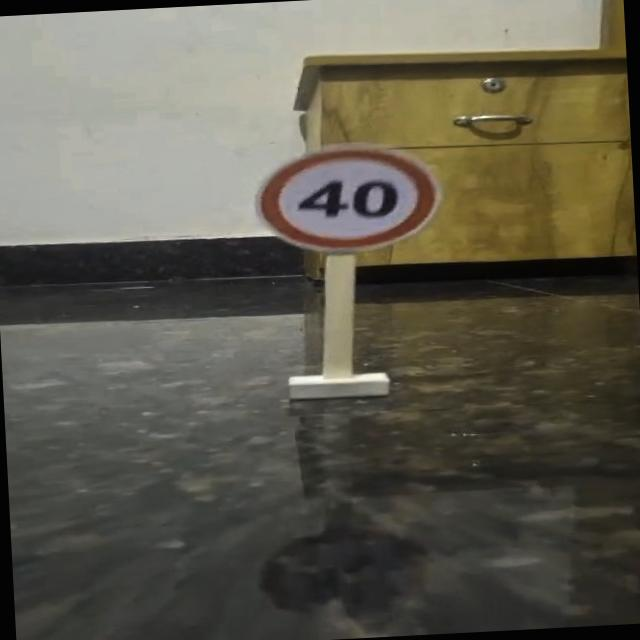Speed40: (246, 138, 453, 260)
